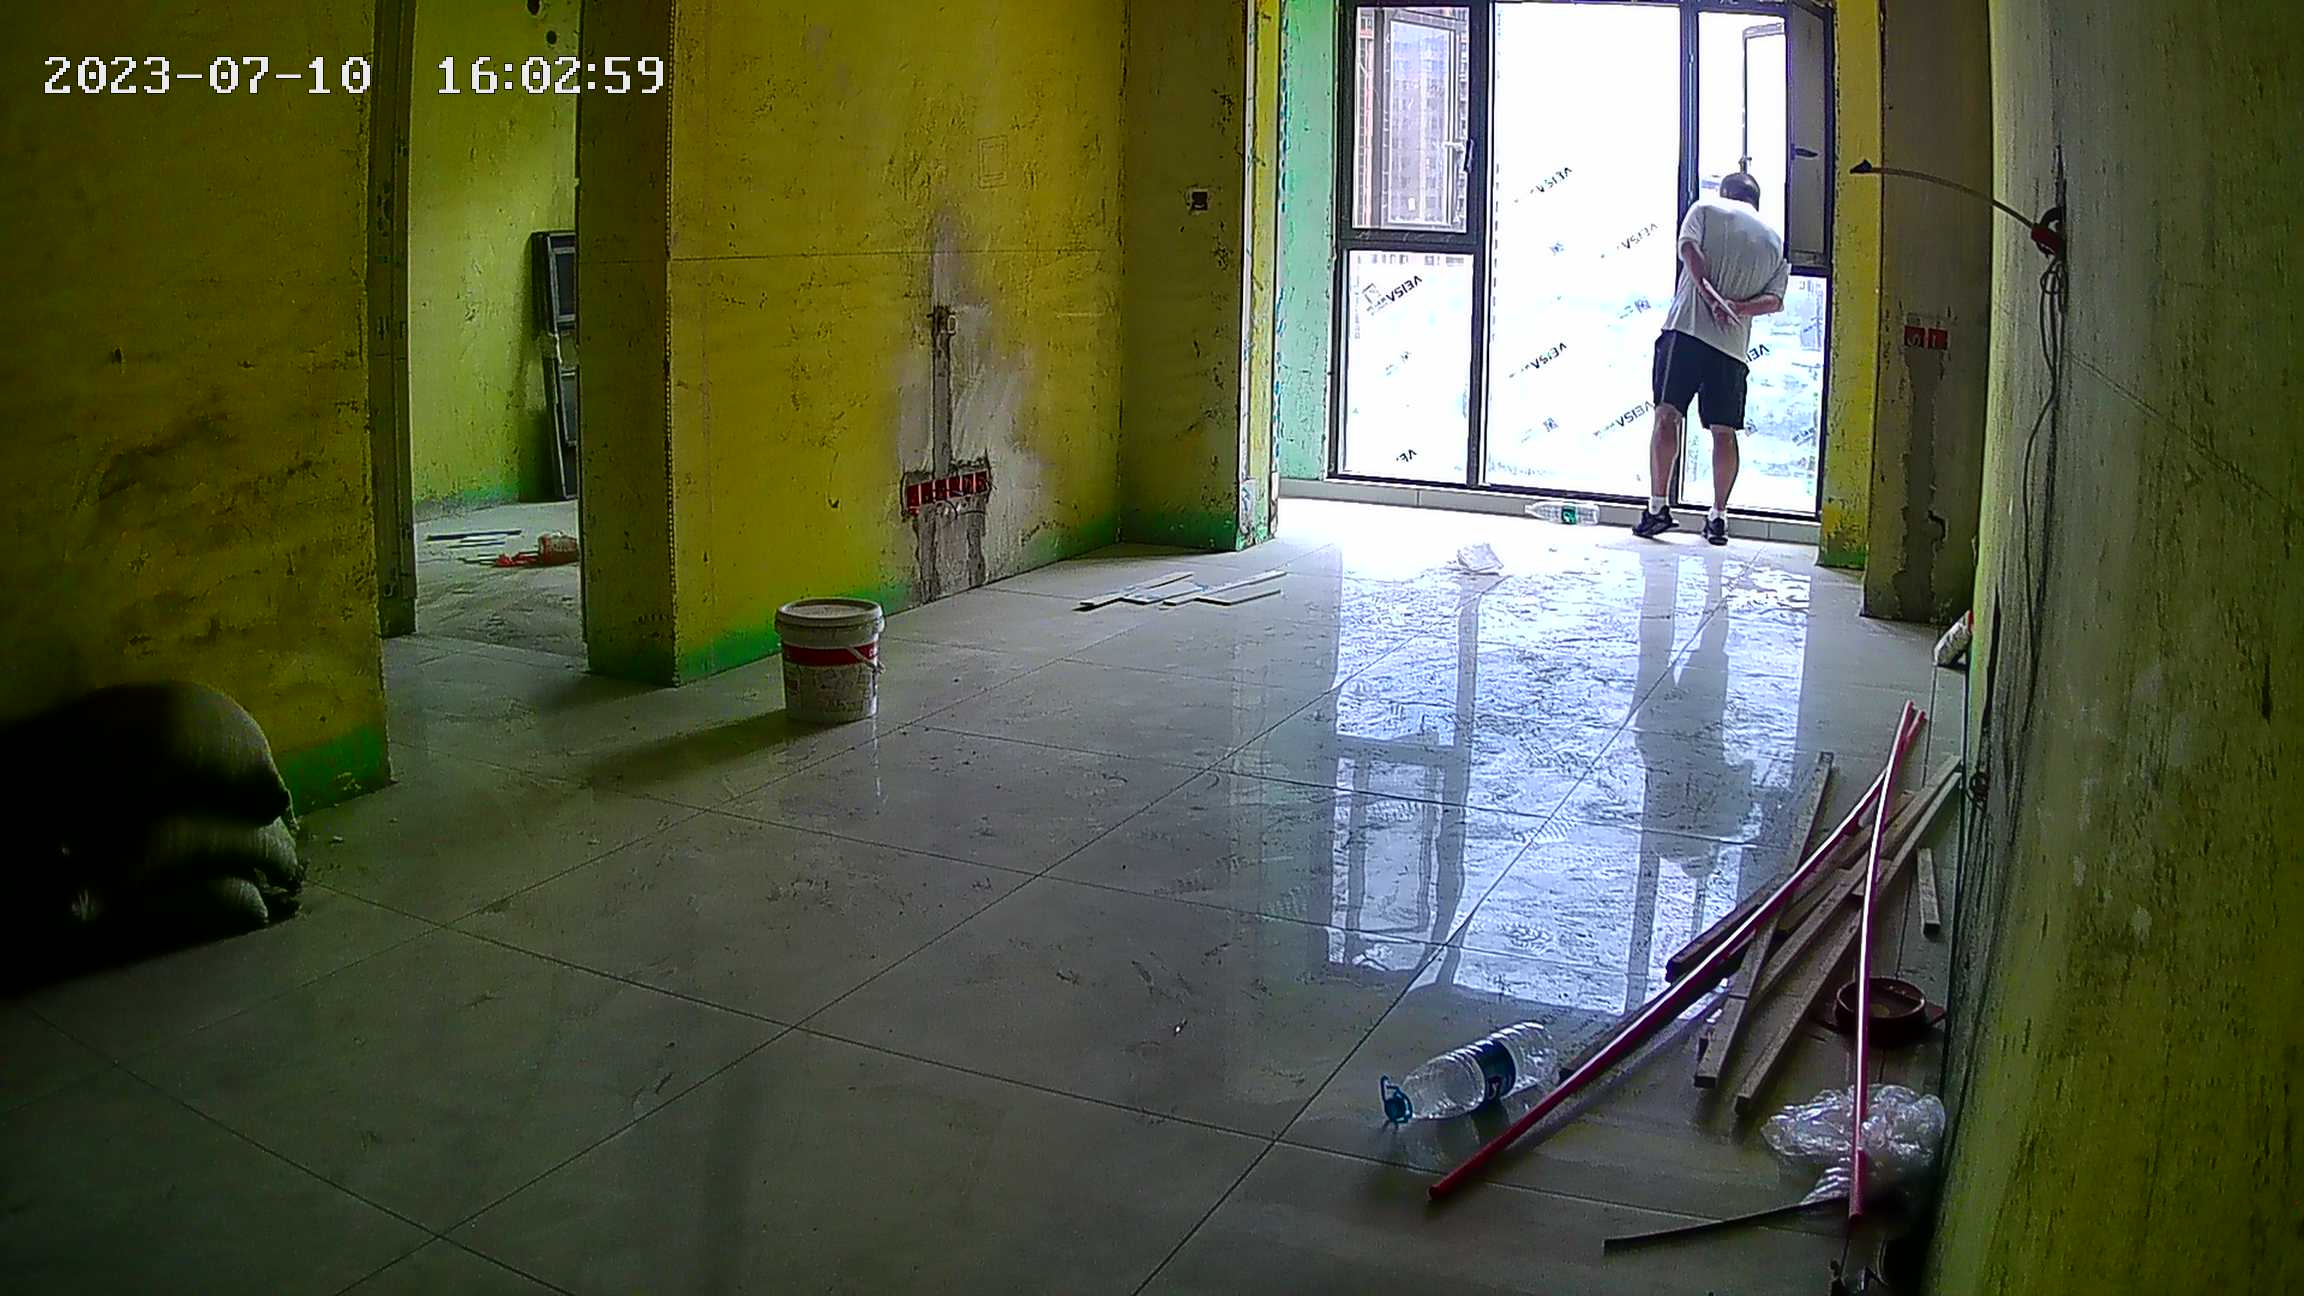people: (1642, 167, 1787, 559)
window: (1336, 7, 1820, 522)
